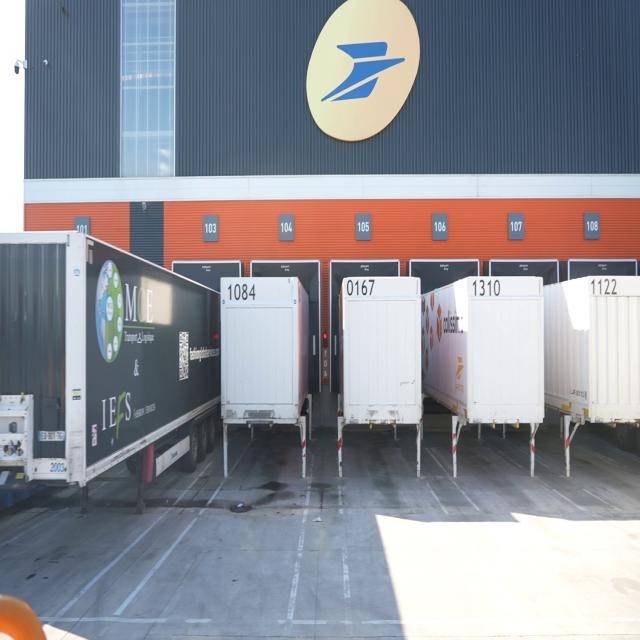Code: (470, 276, 505, 300), (226, 280, 256, 305), (348, 279, 378, 302), (590, 277, 619, 299)
